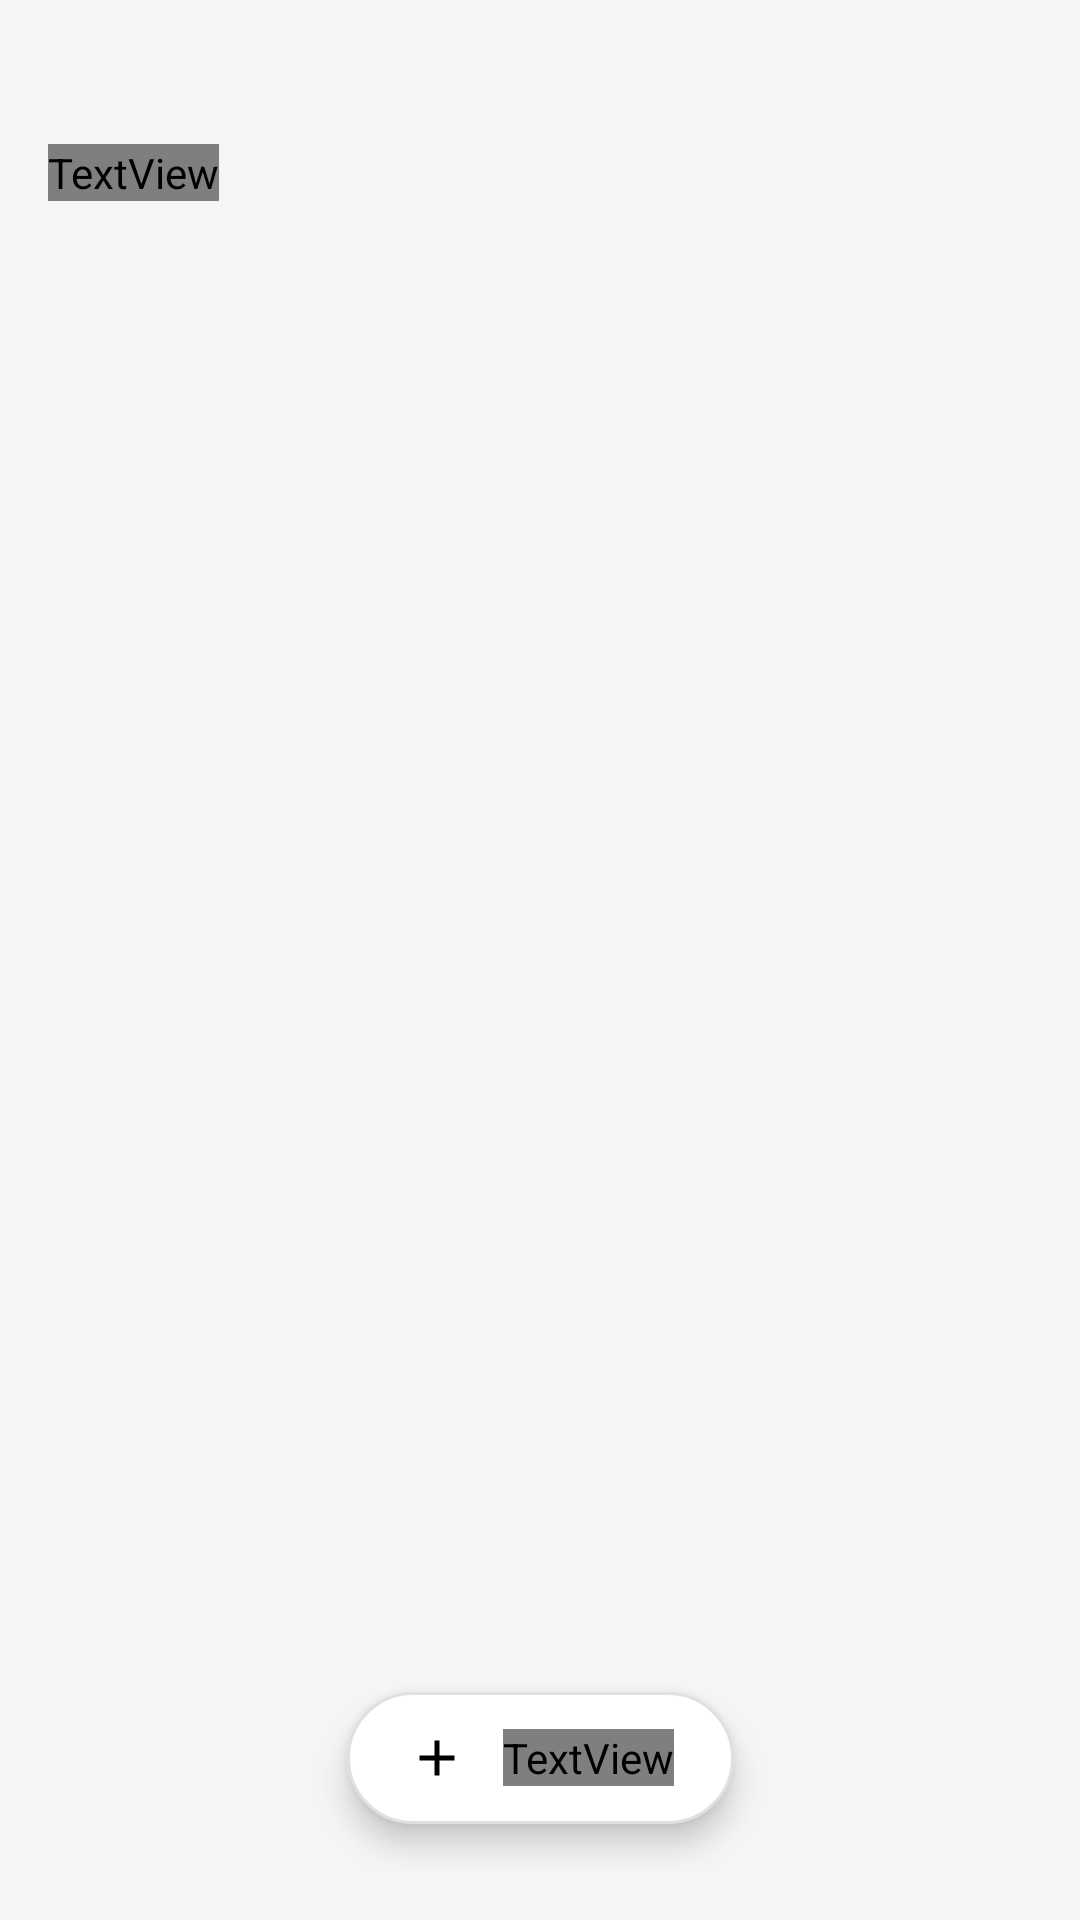

Where to tap for icons on this 1080w x 1920h app screen, as point (x, y):
add: point (437, 1758)
